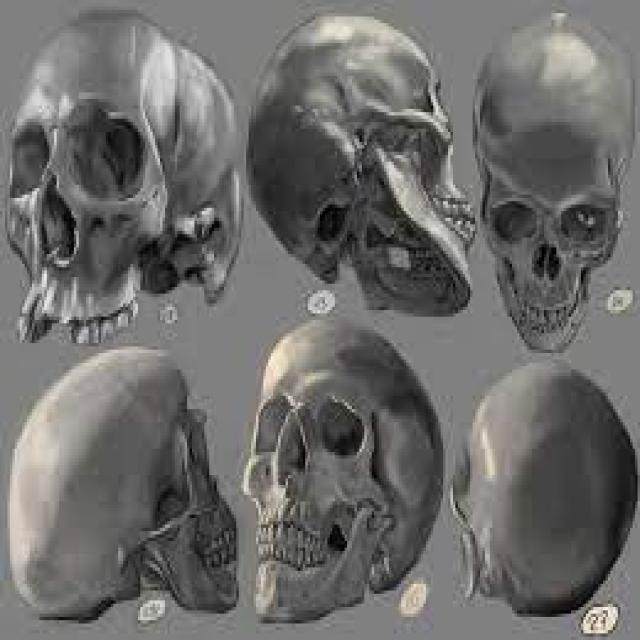skull: (241, 293, 448, 640)
